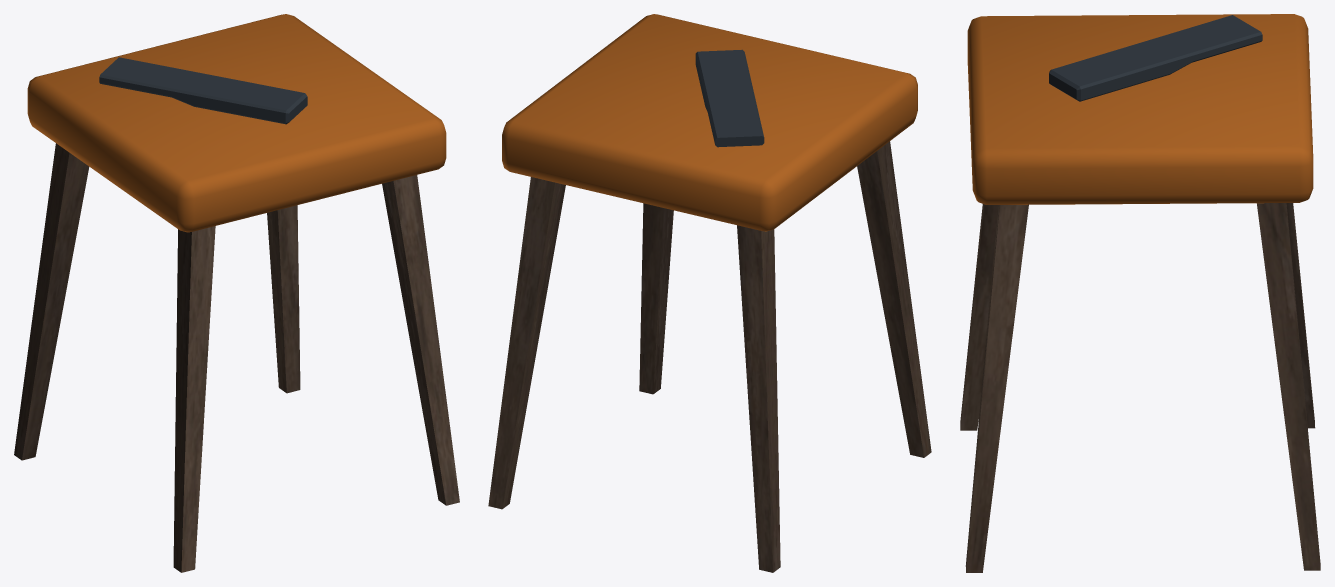
Rendered from chair.glb.
3 renders of one model, left to right at view 1: azimuth 30°, elevation 25°; view 2: azimuth 150°, elevation 25°; view 3: azimuth 270°, elevation 25°, orthographic. The views are drawn at different scales.
Parts seen in each view (by area): view 1: Cube.038, Cube.019, Cube.023; view 2: Cube.038, Cube.019, Cube.023; view 3: Cube.038, Cube.019, Cube.023.
Part boxes in pixels (left/top/right/bottom): Cube.038: left=27, top=14, right=446, bottom=232; Cube.019: left=14, top=143, right=459, bottom=572; Cube.023: left=99, top=57, right=307, bottom=124; Cube.038: left=502, top=14, right=917, bottom=231; Cube.019: left=488, top=141, right=931, bottom=572; Cube.023: left=695, top=49, right=764, bottom=147; Cube.038: left=967, top=14, right=1313, bottom=204; Cube.019: left=960, top=203, right=1320, bottom=572; Cube.023: left=1049, top=15, right=1262, bottom=101.
Bounding box in the file's own units: 0.4763 × 0.6307 × 0.4774.
Materials: 3 (1 with a texture image).
